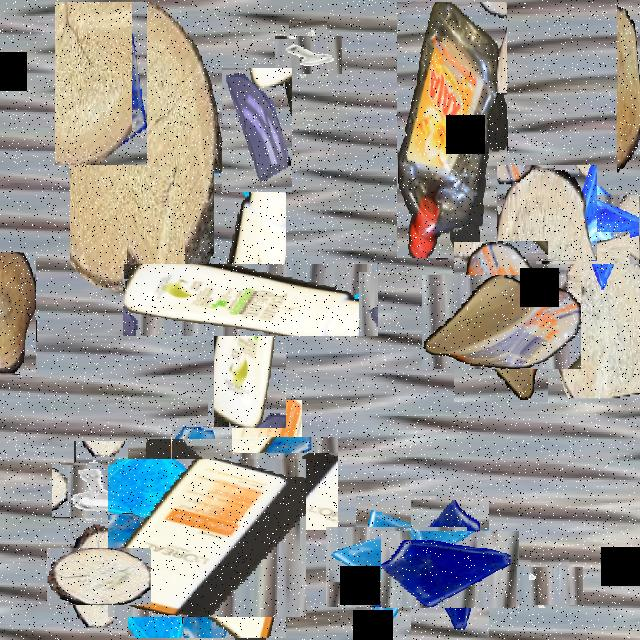glass: (190, 418, 320, 549), (55, 2, 147, 165), (341, 512, 452, 622), (396, 515, 504, 623), (550, 180, 640, 278), (222, 68, 292, 192), (172, 427, 232, 533)
metal: (116, 177, 196, 257), (63, 452, 141, 529), (524, 560, 576, 613), (282, 29, 334, 81)
plastic: (118, 449, 296, 628), (397, 2, 507, 258), (168, 218, 332, 382), (438, 258, 564, 386)
wood: (70, 2, 228, 300), (554, 242, 640, 398), (497, 166, 597, 262), (59, 536, 140, 616), (0, 252, 36, 374), (617, 2, 640, 176)
